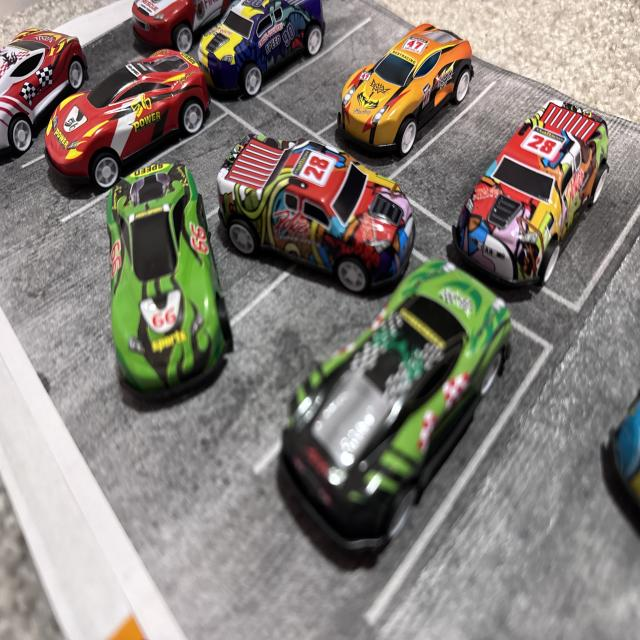car: (244, 297, 508, 589), (474, 71, 640, 283), (111, 124, 233, 375), (32, 40, 204, 208), (195, 138, 395, 274), (351, 2, 490, 148), (0, 22, 102, 157), (215, 3, 327, 109)
